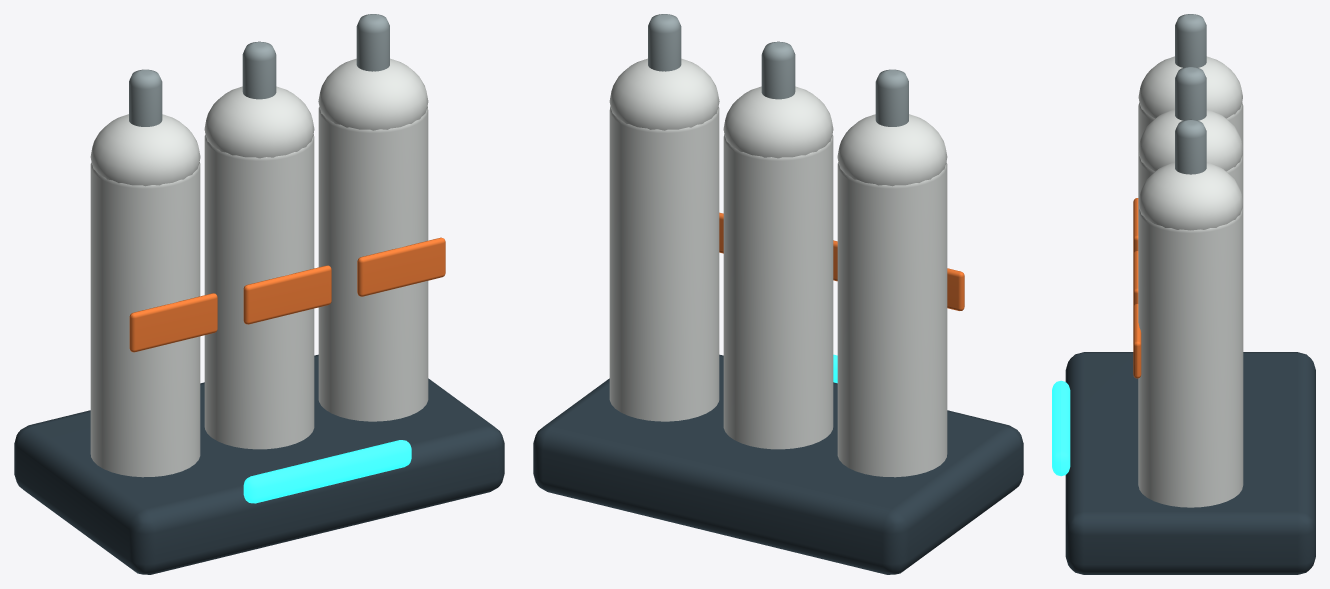
File: oxygen.glb
3 views of the same model, side by side, from view 1: azimuth 30°, elevation 25°; view 2: azimuth 150°, elevation 25°; view 3: azimuth 270°, elevation 25° (orthographic). The views are drawn at different scales.
Visible parts, largest first — view 1: oxygen skid, oxygen cylinder, oxygen cylinder.002, oxygen cylinder.001, tank shoulder.001, tank shoulder.002, tank shoulder, oxygen status, tank band, tank band.001, tank band.002, valve.001 (+2 smaller); view 2: oxygen skid, oxygen cylinder.002, oxygen cylinder.001, oxygen cylinder, tank shoulder.001, tank shoulder.002, tank shoulder, valve.001, valve, valve.002, tank band; view 3: oxygen skid, oxygen cylinder.002, tank shoulder.002, tank shoulder, tank shoulder.001, oxygen status, valve.002, valve, valve.001, oxygen cylinder, oxygen cylinder.001, tank band.002.
Part boxes in pixels (box(x1,y1,x2,y2)): oxygen skid: box(14, 354, 504, 574); oxygen cylinder: box(90, 162, 200, 477); oxygen cylinder.002: box(318, 106, 428, 421); oxygen cylinder.001: box(204, 134, 314, 449); tank shoulder.001: box(204, 86, 314, 158); tank shoulder.002: box(318, 58, 428, 130); tank shoulder: box(90, 114, 200, 186); oxygen status: box(243, 440, 411, 503); tank band: box(129, 293, 217, 352); tank band.001: box(243, 265, 331, 324); tank band.002: box(357, 237, 445, 296); valve.001: box(242, 41, 276, 99); oxygen skid: box(533, 354, 1023, 574); oxygen cylinder.002: box(609, 106, 719, 421); oxygen cylinder.001: box(723, 134, 833, 449); oxygen cylinder: box(837, 162, 947, 477); tank shoulder.001: box(723, 86, 833, 158); tank shoulder.002: box(609, 58, 719, 130); tank shoulder: box(837, 114, 947, 186); valve.001: box(761, 41, 795, 99); valve: box(875, 69, 908, 126); valve.002: box(648, 14, 681, 71); tank band: box(947, 268, 964, 310); oxygen skid: box(1065, 352, 1315, 574); oxygen cylinder.002: box(1138, 208, 1243, 507); tank shoulder.002: box(1138, 162, 1242, 230); tank shoulder: box(1138, 56, 1242, 118); tank shoulder.001: box(1138, 109, 1242, 171); oxygen status: box(1052, 380, 1070, 476); valve.002: box(1175, 119, 1206, 174); valve: box(1175, 14, 1206, 67); valve.001: box(1175, 67, 1206, 120); oxygen cylinder: box(1138, 102, 1243, 157); oxygen cylinder.001: box(1138, 155, 1243, 210); tank band.002: box(1133, 303, 1141, 378).
Size of the model in its own units: 1.8 by 2.06 by 1.16.
